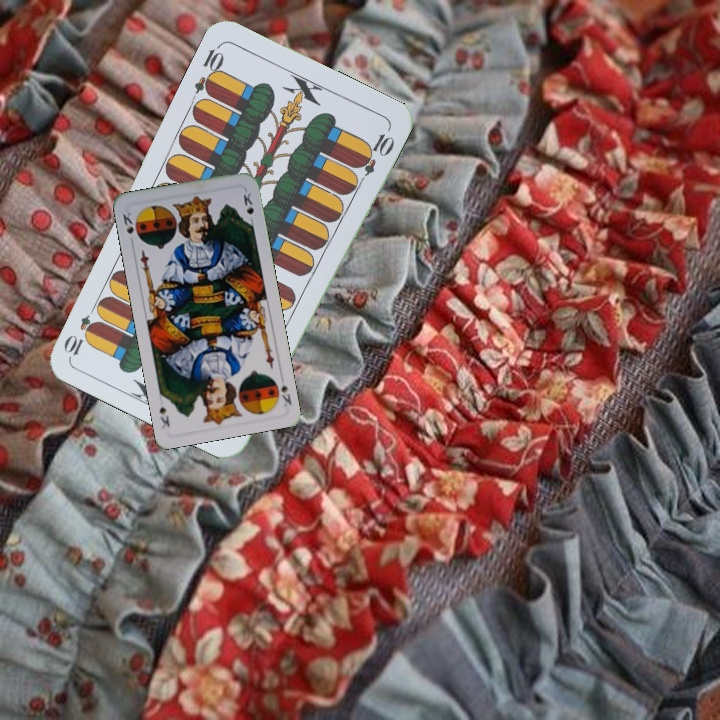E10: (190, 40, 227, 98)
SK: (270, 375, 294, 409), (119, 208, 136, 237)
